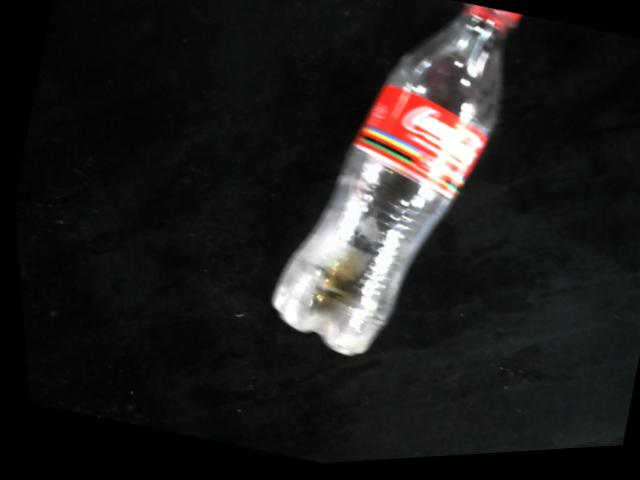bottle: (264, 8, 523, 362)
